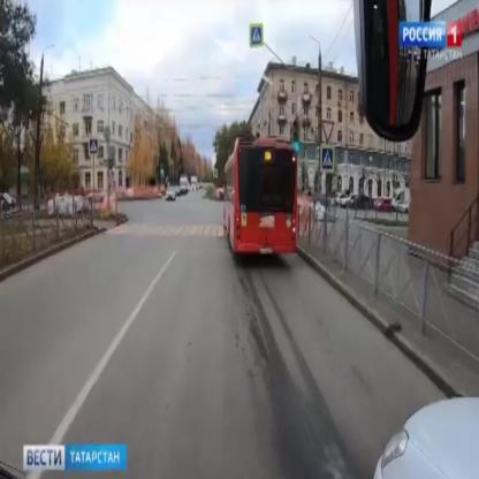bus: (222, 136, 302, 266)
car: (372, 397, 479, 479), (350, 193, 377, 213), (165, 183, 176, 206)
